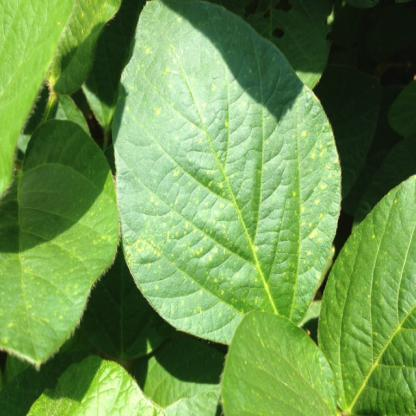Soyabean leaf: (111, 1, 346, 358), (1, 118, 121, 370)
